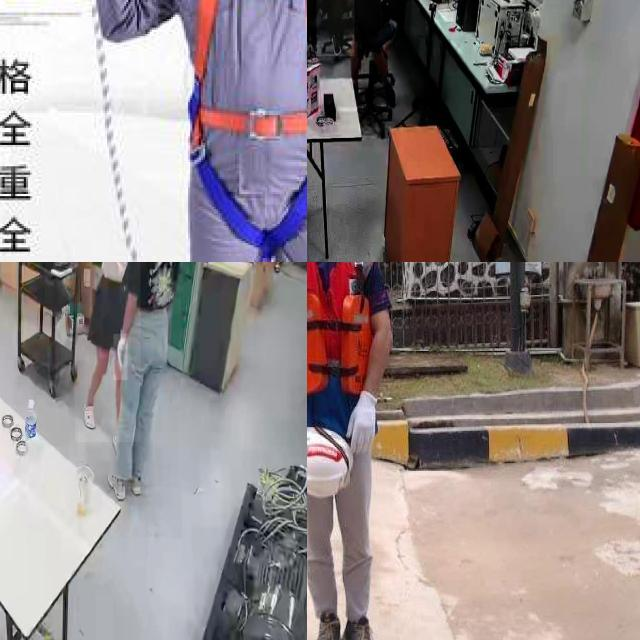Harness: (177, 0, 307, 260)
boots: (343, 610, 383, 640), (311, 605, 343, 640)
hand_glove: (114, 334, 128, 381)
person: (307, 262, 423, 640), (75, 262, 178, 487), (75, 262, 140, 442), (369, 0, 422, 111), (316, 0, 355, 57)
shoes: (124, 448, 144, 502), (105, 467, 128, 505)
vest: (307, 262, 380, 433)
